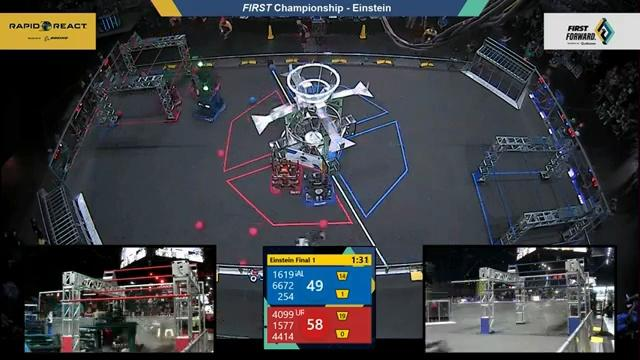robot: (266, 144, 306, 197), (190, 82, 230, 125), (301, 167, 340, 210), (184, 55, 223, 95), (154, 77, 184, 109)
